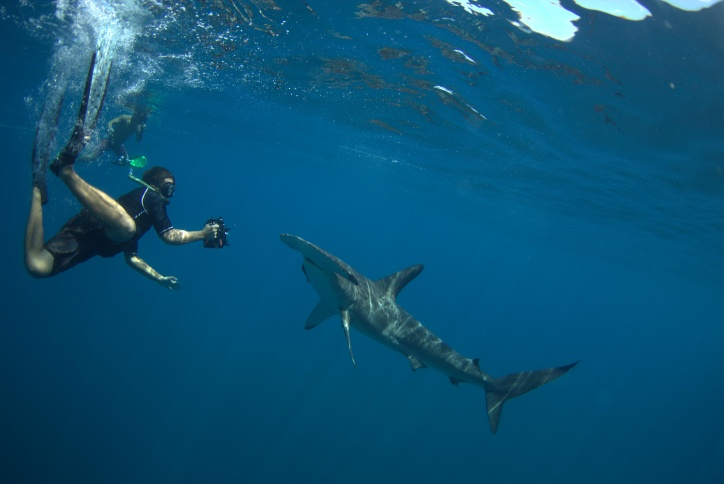Hammer: (263, 213, 607, 453)
